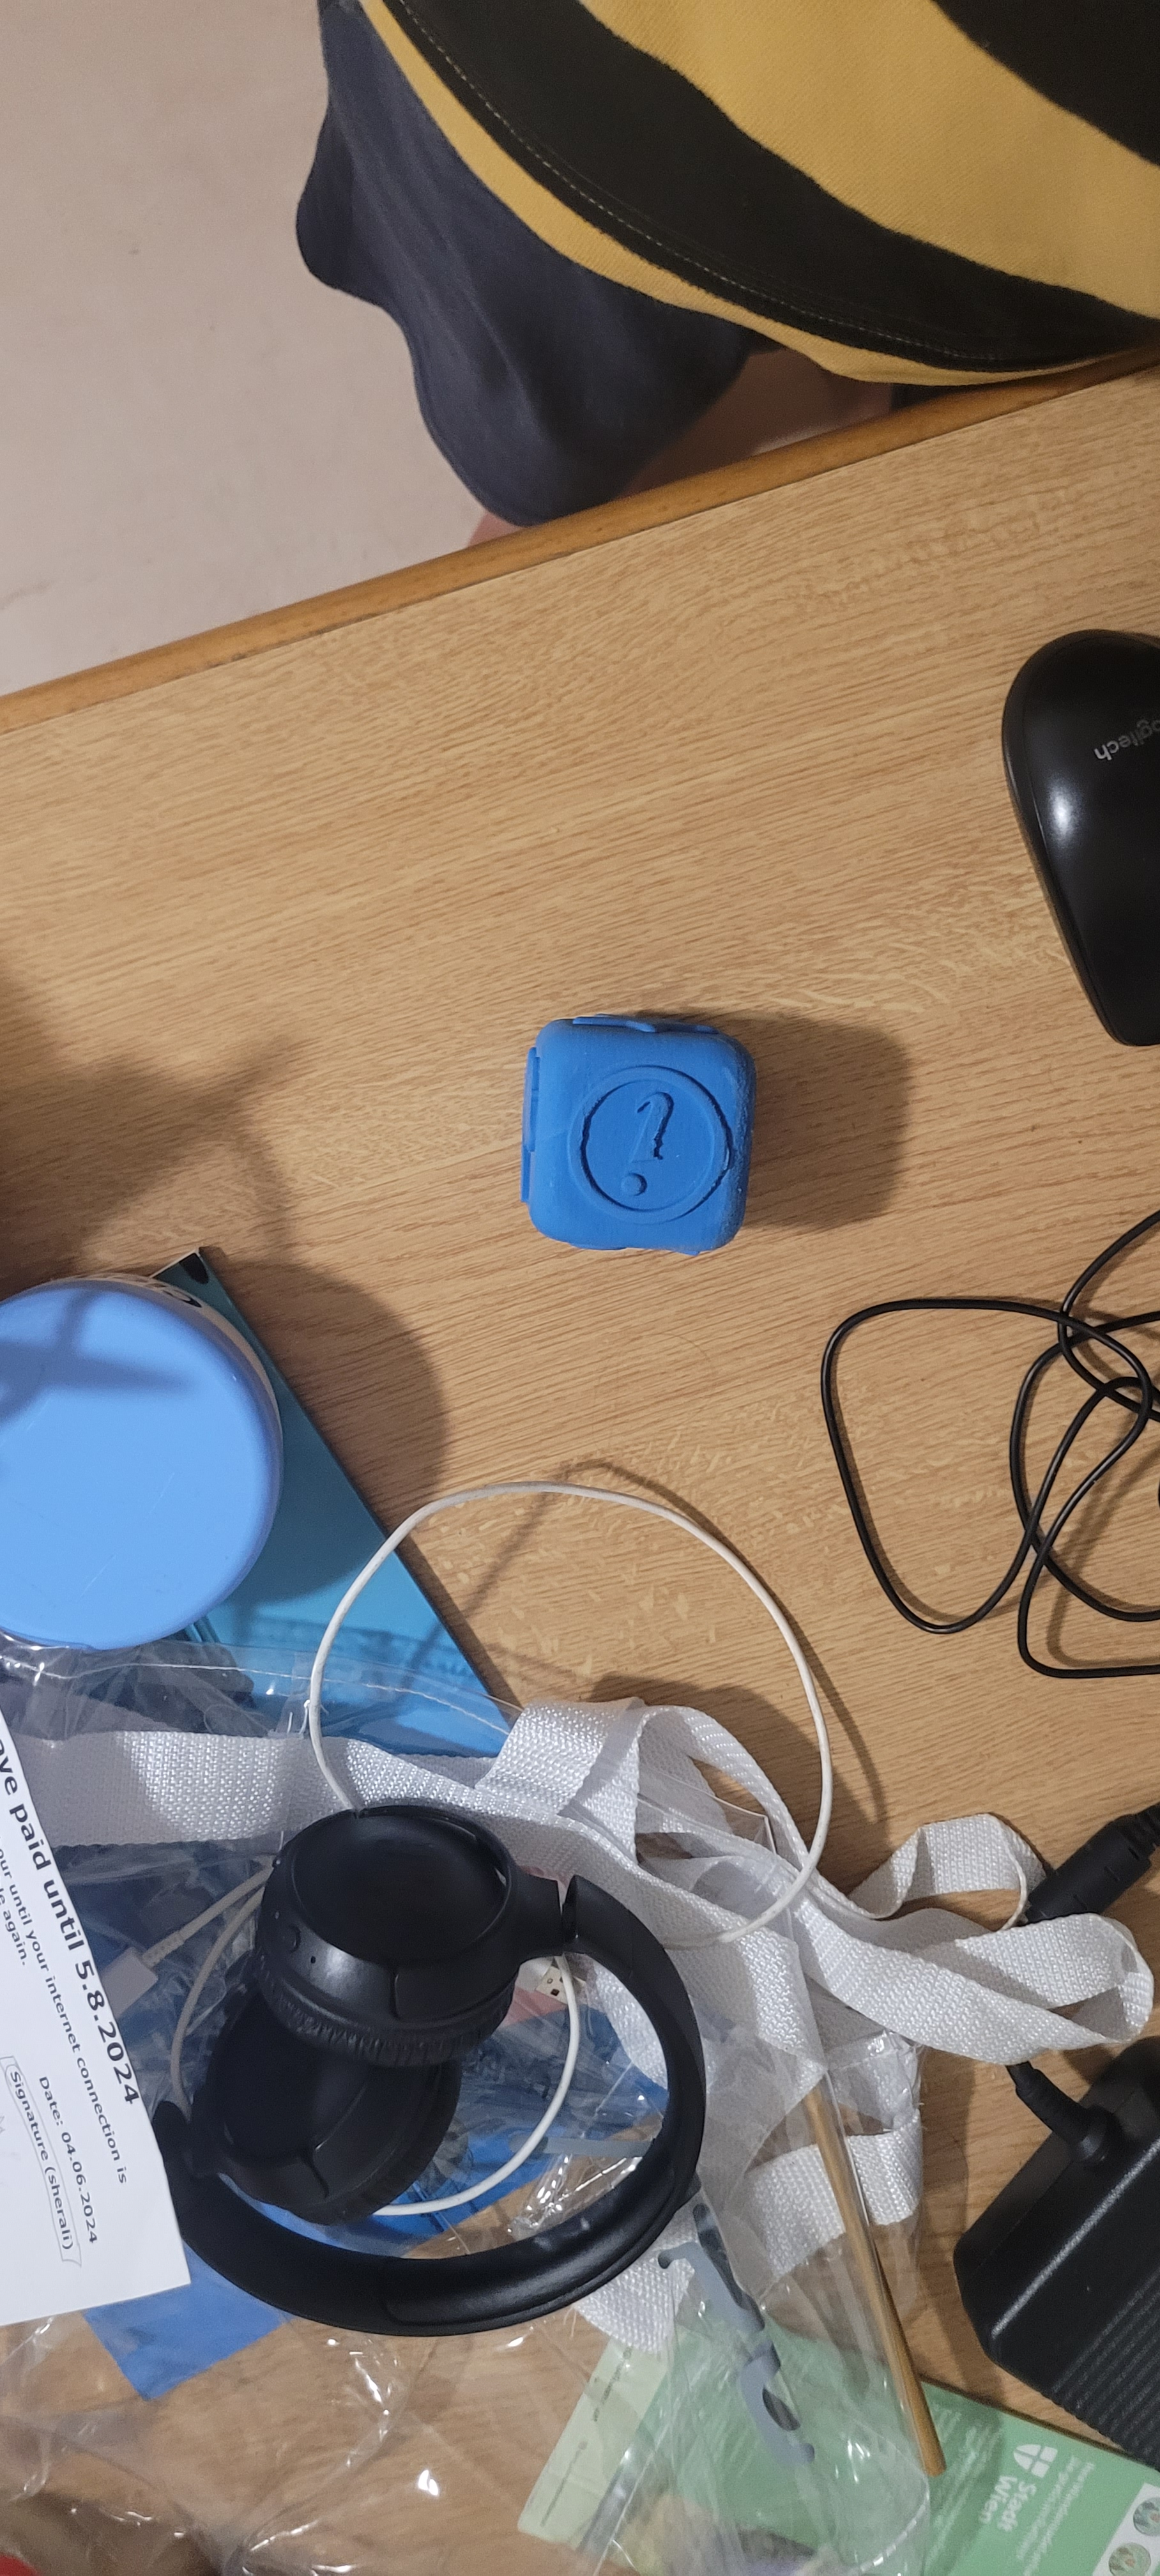Info: (562, 1060, 731, 1235)
